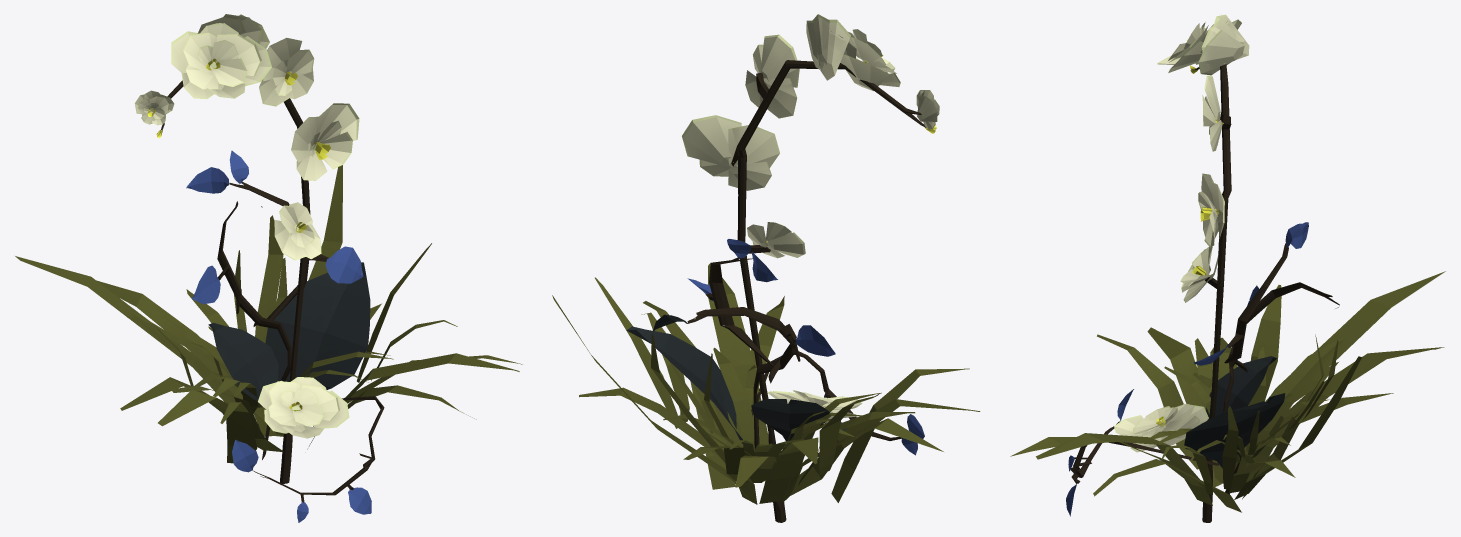
Rendered from Plant04_Uvd.fbx.
3 views of the same model, side by side, from view 1: azimuth 30°, elevation 25°; view 2: azimuth 150°, elevation 25°; view 3: azimuth 270°, elevation 25° (orthographic). The views are drawn at different scales.
Parts seen in each view (by area): view 1: Flower05Plant; view 2: Flower05Plant; view 3: Flower05Plant.
Part boxes in pixels (x1,y1,x2,y2): Flower05Plant: (15, 14, 522, 522); Flower05Plant: (552, 14, 980, 522); Flower05Plant: (1010, 14, 1445, 522).
Size of the model in its own units: 75.81 by 101 by 84.26.
1 material, 1 textured.
